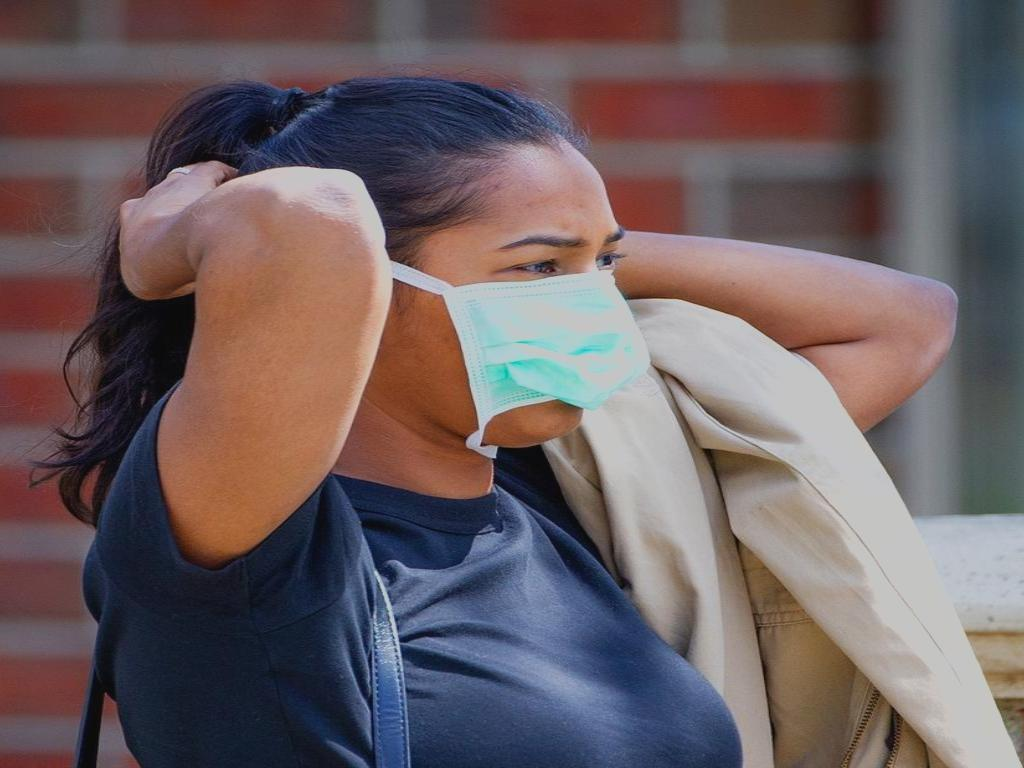mask_weared_incorrect: (240, 75, 655, 465)
